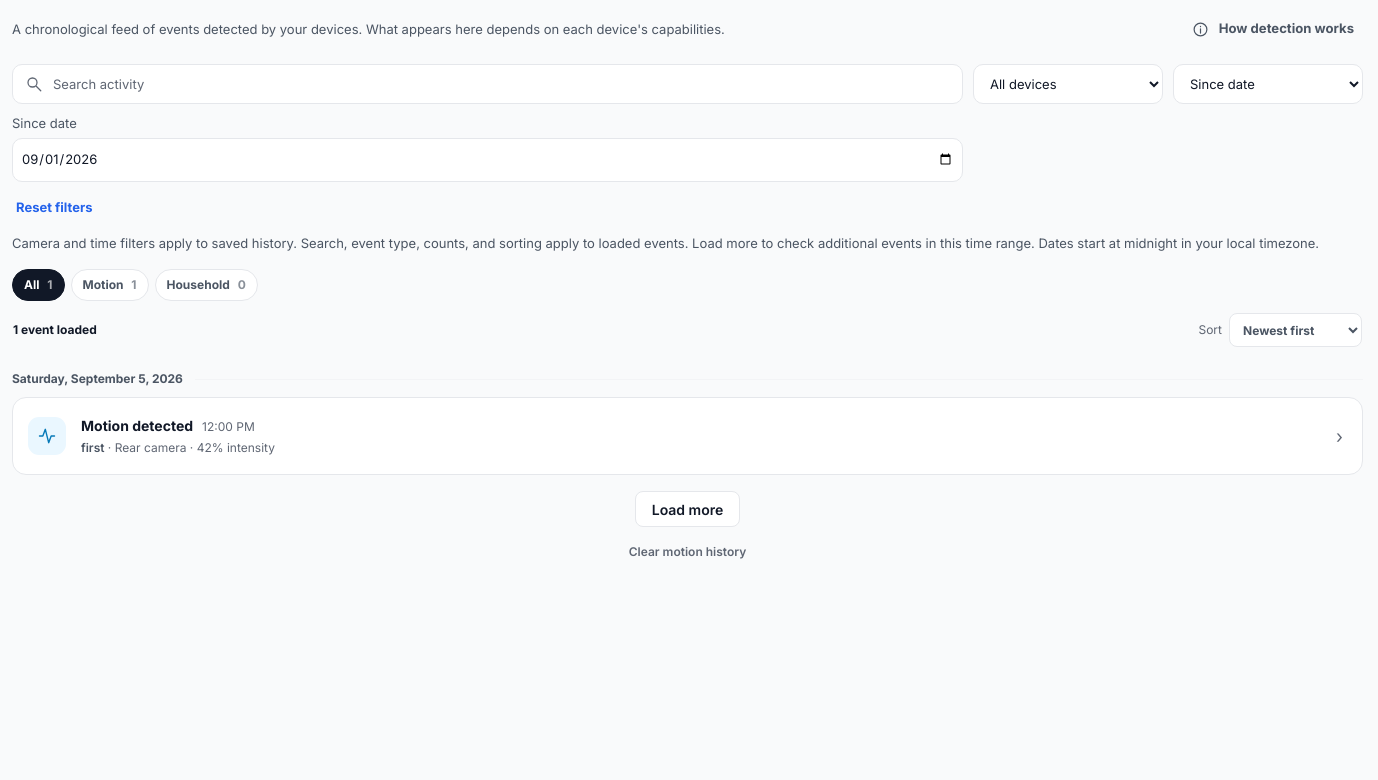
Test: Activity timeline › sends a custom local date boundary to both histories and subsequent pages
Expected: the text "first" is shown, [81,440,104,455]
Expected: the date field labelled "Since date" holds "2026-09-01", [12,138,963,182]
Click the button "Load more": [687, 509] box [635,491,740,527]
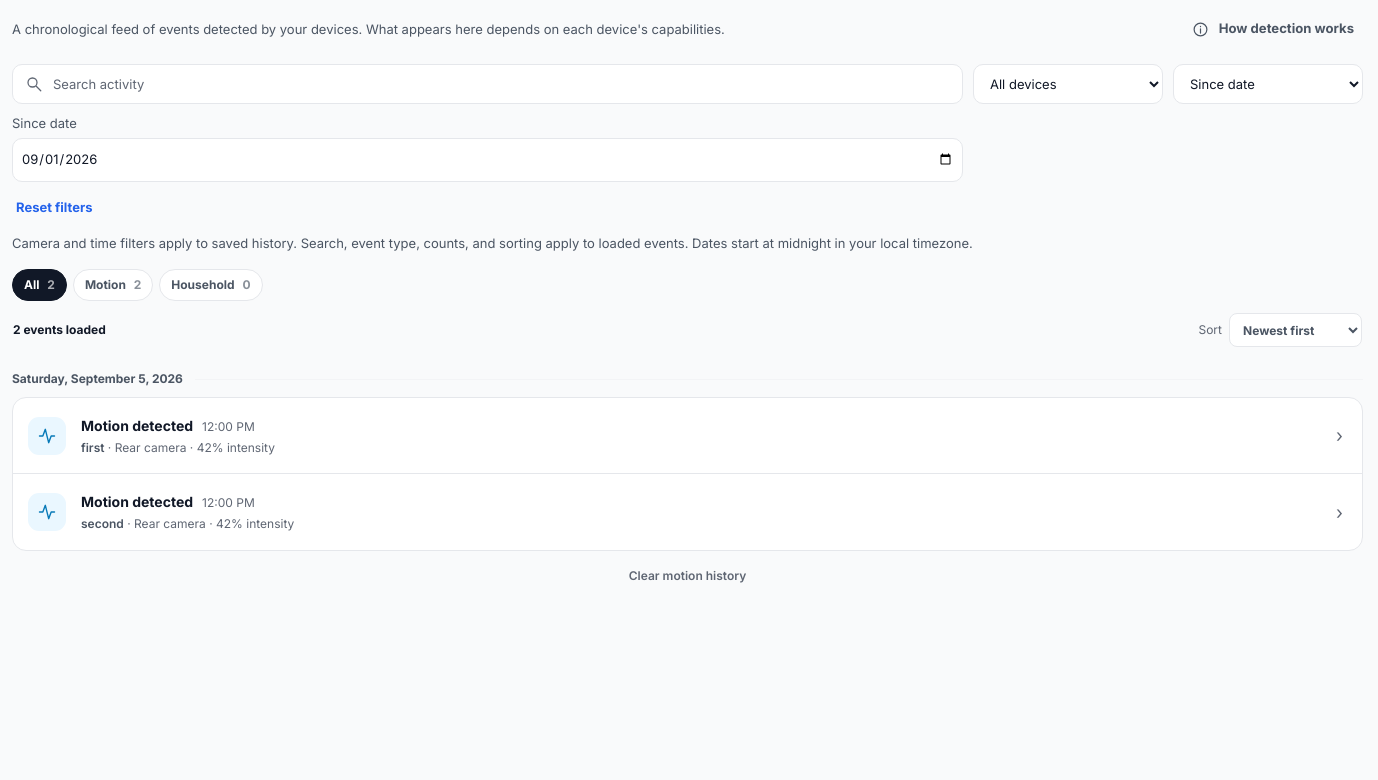
Result: the text "second" is shown at [81,516,124,531]
Clear the date field labelled "Since date": [488, 160] box [12,138,963,182]
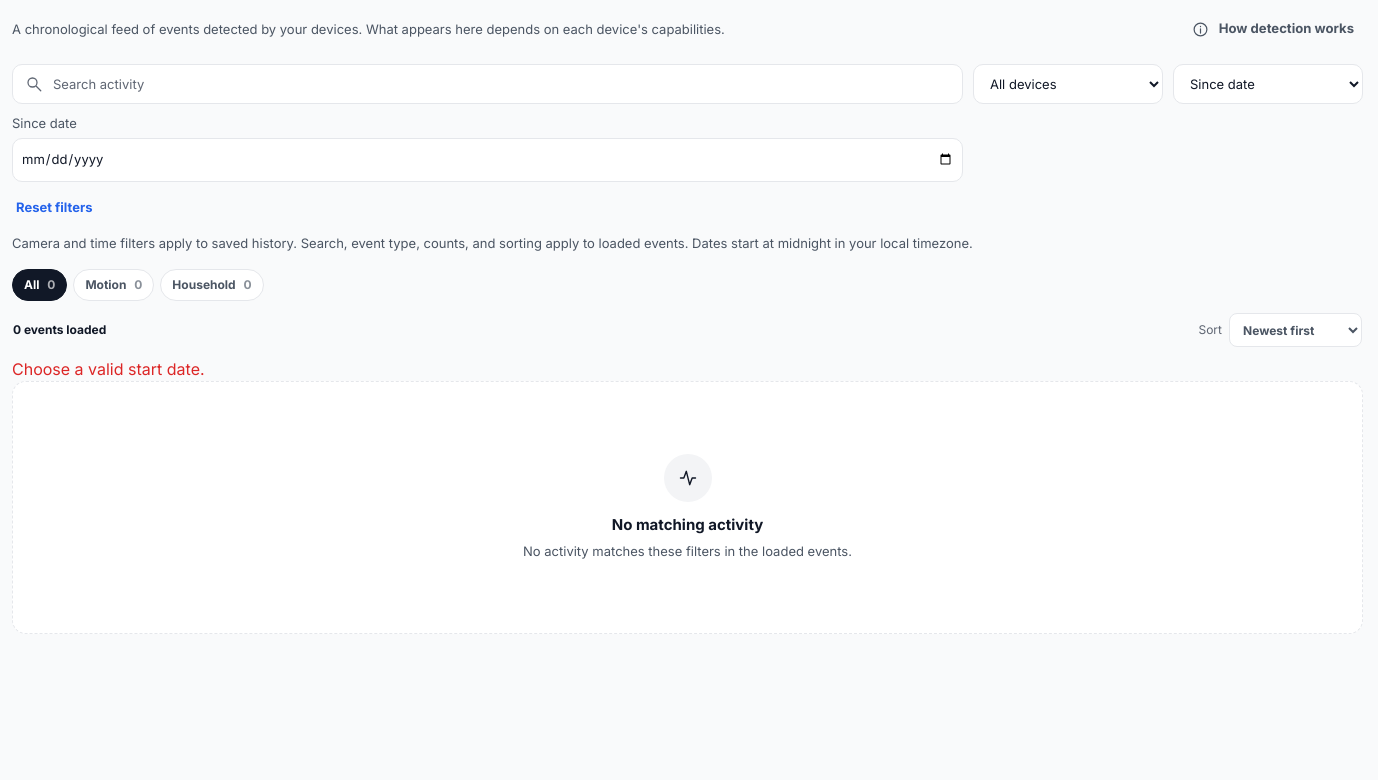
Result: the message "Choose a valid start date." is shown at [12,359,205,379]
